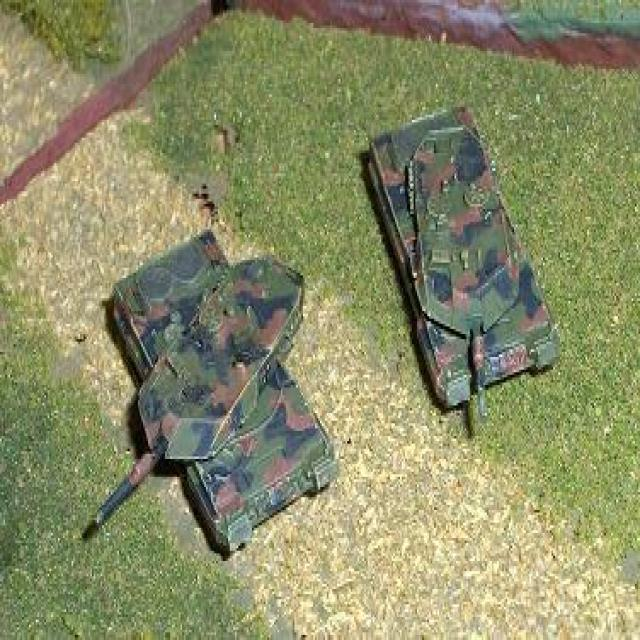Tanks: (83, 218, 336, 578), (361, 87, 556, 428)
